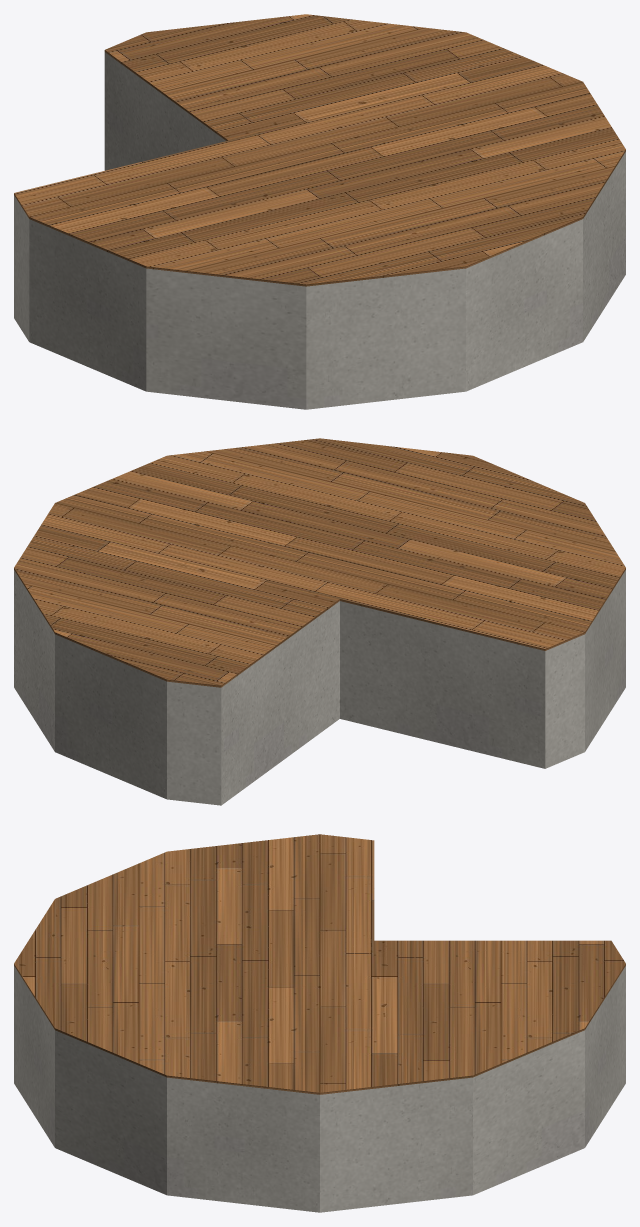
File: turret_floor.glb
3 renders of one model, top to bottom at view 1: azimuth 30°, elevation 25°; view 2: azimuth 150°, elevation 25°; view 3: azimuth 270°, elevation 25°, orthographic. The views are drawn at different scales.
Visible parts, largest first — view 1: turret_floor_oak, turret_floor_concrete; view 2: turret_floor_oak, turret_floor_concrete; view 3: turret_floor_oak, turret_floor_concrete.
Boxes of the visible parts, box(x1,y1,x2,y2) form: turret_floor_oak: box(14, 14, 625, 286); turret_floor_concrete: box(14, 52, 625, 409); turret_floor_oak: box(14, 438, 625, 687); turret_floor_concrete: box(14, 570, 625, 805); turret_floor_oak: box(14, 834, 625, 1094); turret_floor_concrete: box(14, 966, 625, 1212).
Bounding box in the file's own units: 3.38 × 0.73 × 3.38.
Materials: 2 (2 with a texture image).
